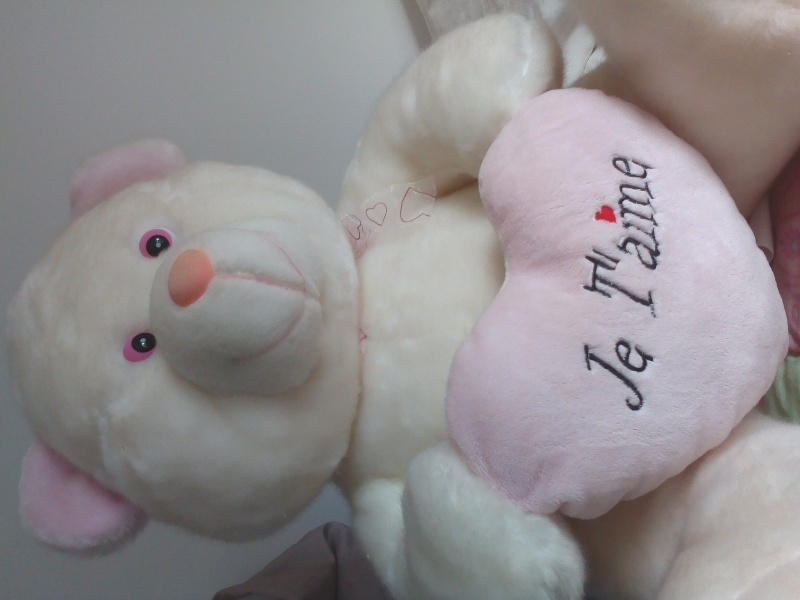text: (609, 145, 624, 325), (625, 145, 640, 325), (641, 145, 656, 325), (596, 145, 608, 325), (641, 325, 657, 419), (593, 325, 608, 419), (609, 325, 624, 419), (625, 325, 640, 419), (657, 145, 663, 325)
